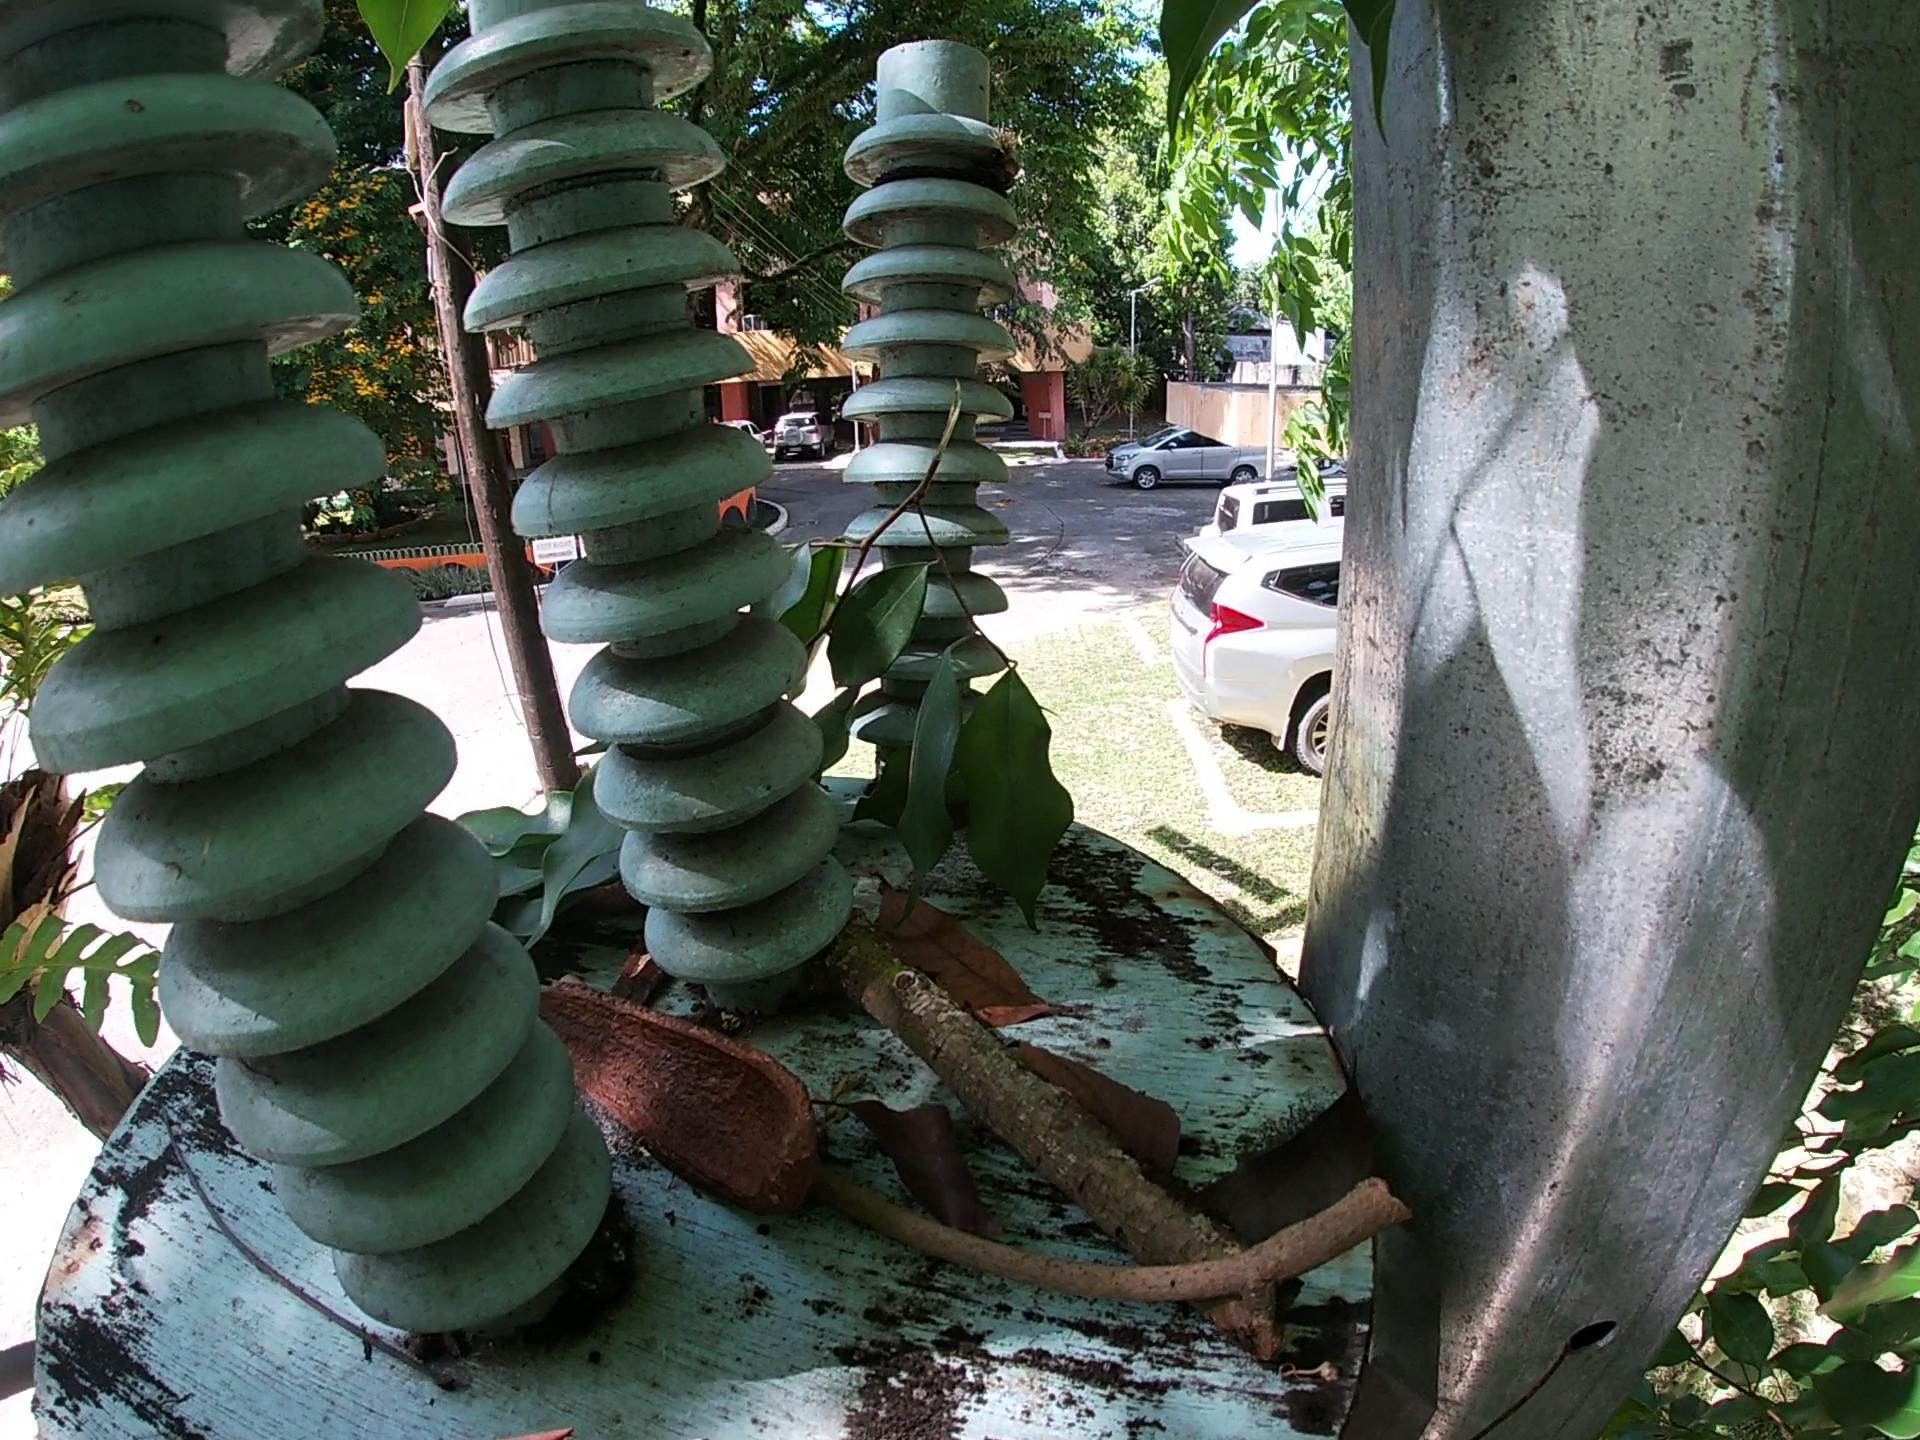branch with leaves: (757, 369, 1076, 871)
leaf: (447, 735, 656, 930), (1211, 1041, 1385, 1225), (865, 874, 1058, 1027), (841, 1085, 998, 1237), (1013, 1032, 1182, 1172)
mahogany fruit: (525, 974, 825, 1215)
tree branch: (824, 926, 1303, 1343), (156, 1113, 484, 1405), (819, 1168, 1417, 1302)
